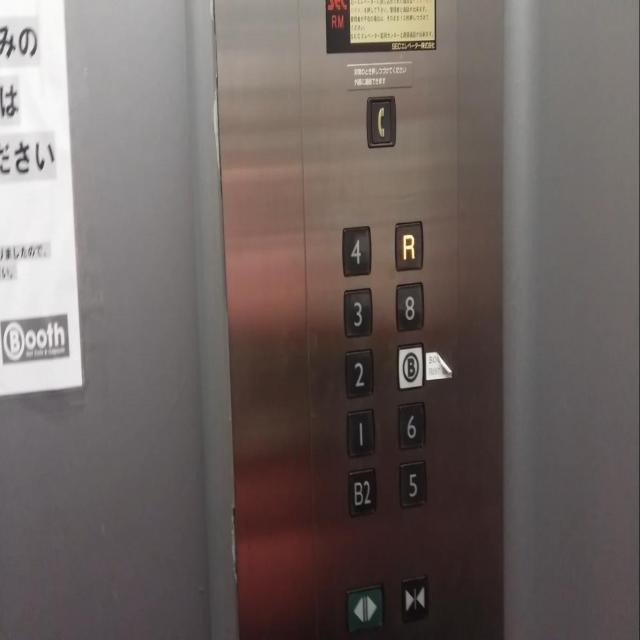1: (346, 408, 376, 457)
2: (344, 348, 374, 400)
3: (342, 286, 373, 339)
4: (341, 224, 372, 277)
5: (399, 459, 427, 507)
6: (397, 400, 426, 450)
8: (395, 280, 424, 331)
B: (397, 342, 425, 391)
B2: (347, 467, 376, 518)
R: (394, 220, 424, 272)
call: (364, 93, 397, 150)
close: (399, 574, 426, 623)
open: (345, 582, 384, 634)
